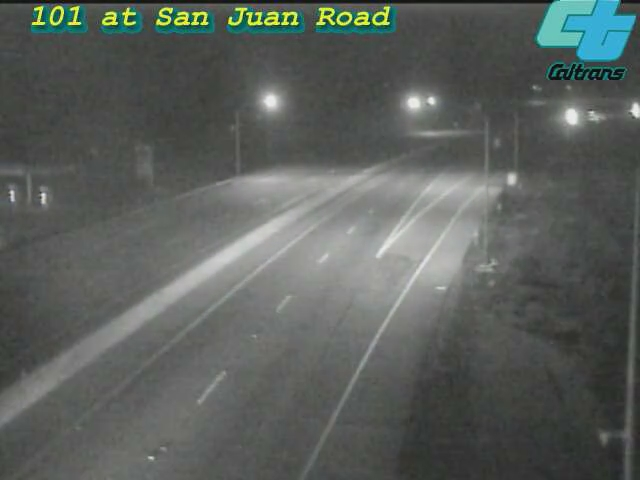vehicle: (572, 93, 622, 143), (550, 91, 600, 141), (610, 86, 640, 136)
